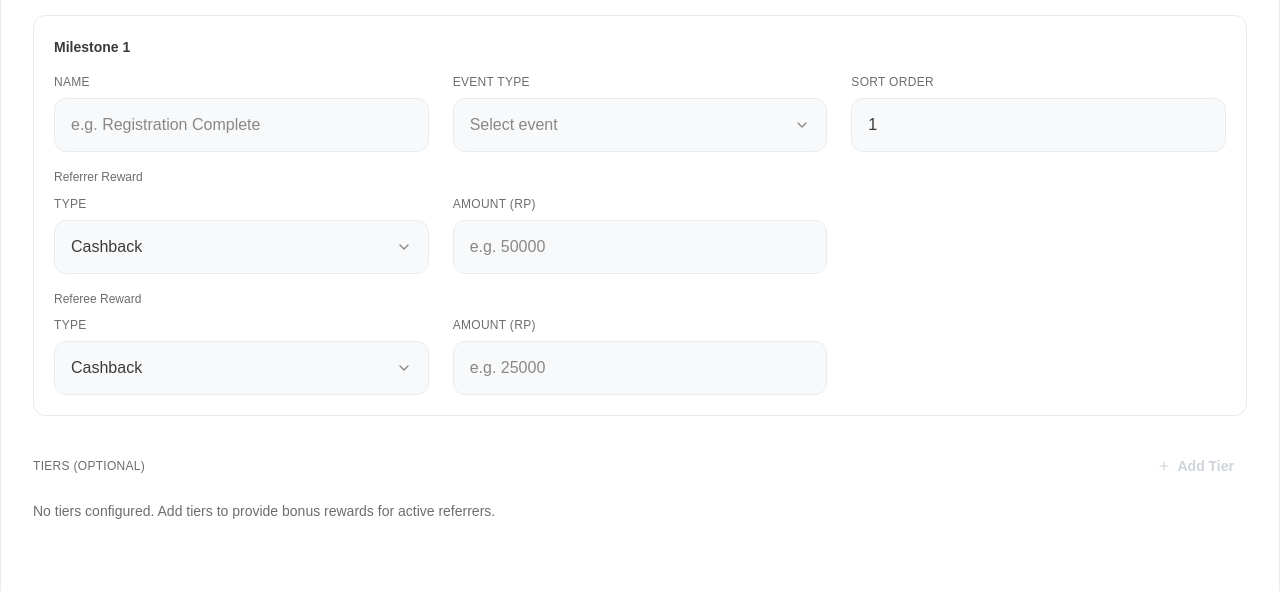
Test case: Campaign Create/Edit Form › tier repeater add/remove › adds multiple tiers with correct numbering
(page scrolled)
Click the button "Add Tier".
click(1196, 466)  # box [1144,448,1247,484]
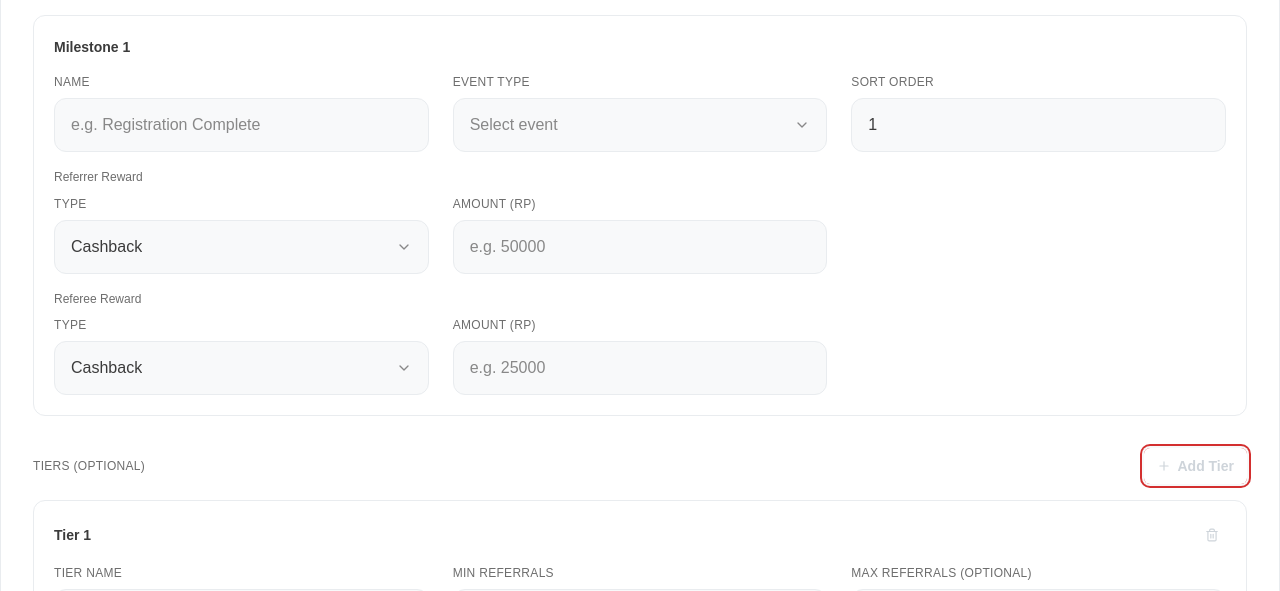
Click the button "Add Tier".
click(1196, 466)  # box [1144,448,1247,484]
(page scrolled)
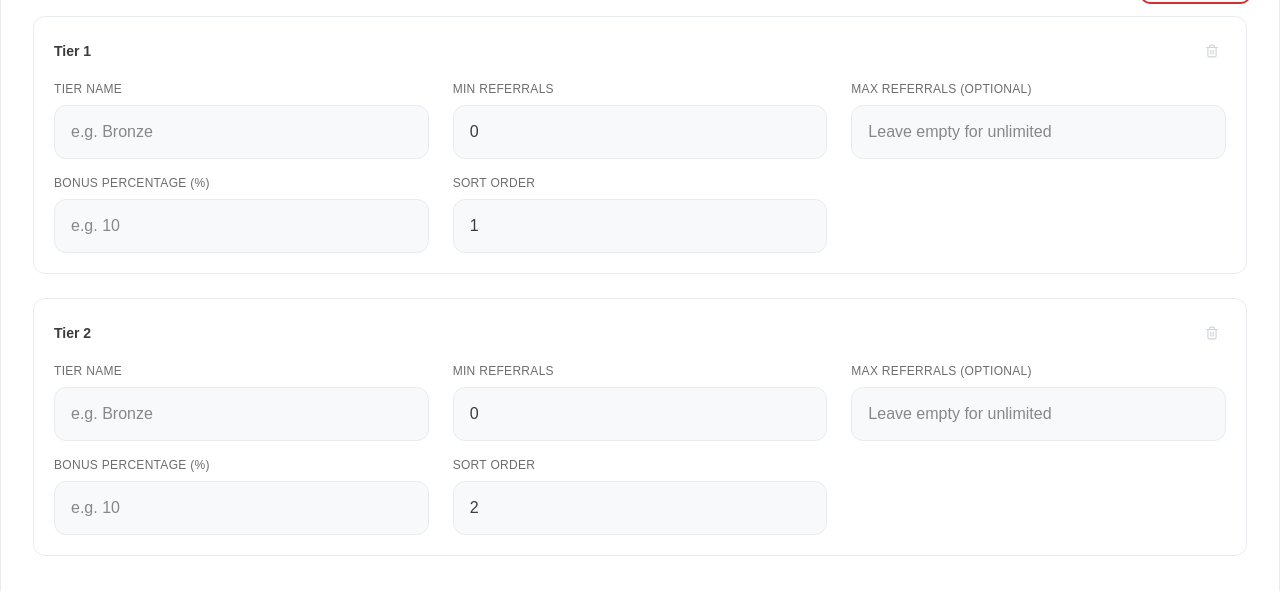
Now the text "Tier 1" is shown, box [54,40,91,63]
Now the text "Tier 2" is shown, box [54,322,91,345]
